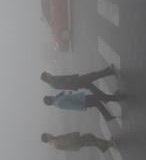person: (40, 64, 117, 103), (42, 91, 121, 122), (41, 131, 117, 153)
